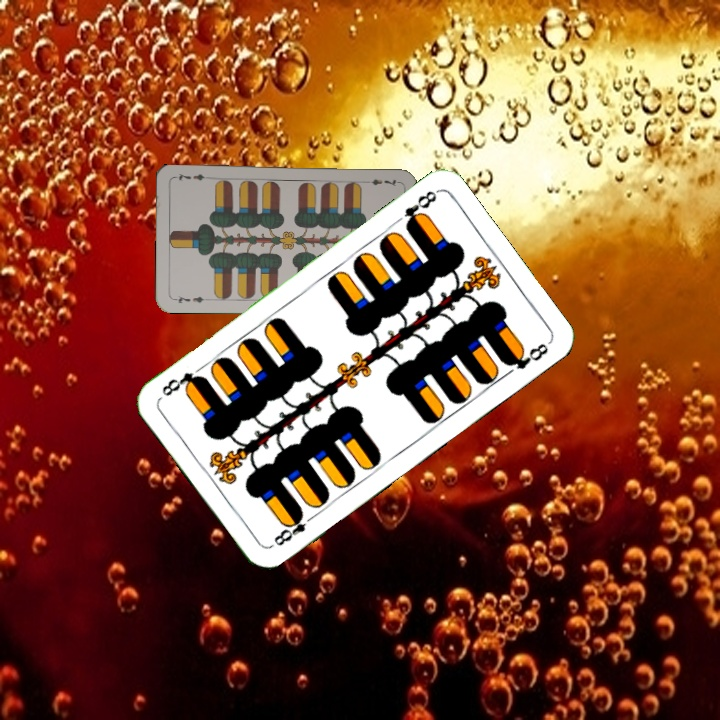E7: (170, 291, 210, 306), (360, 175, 400, 189)
E8: (267, 507, 318, 550), (400, 186, 440, 232)
